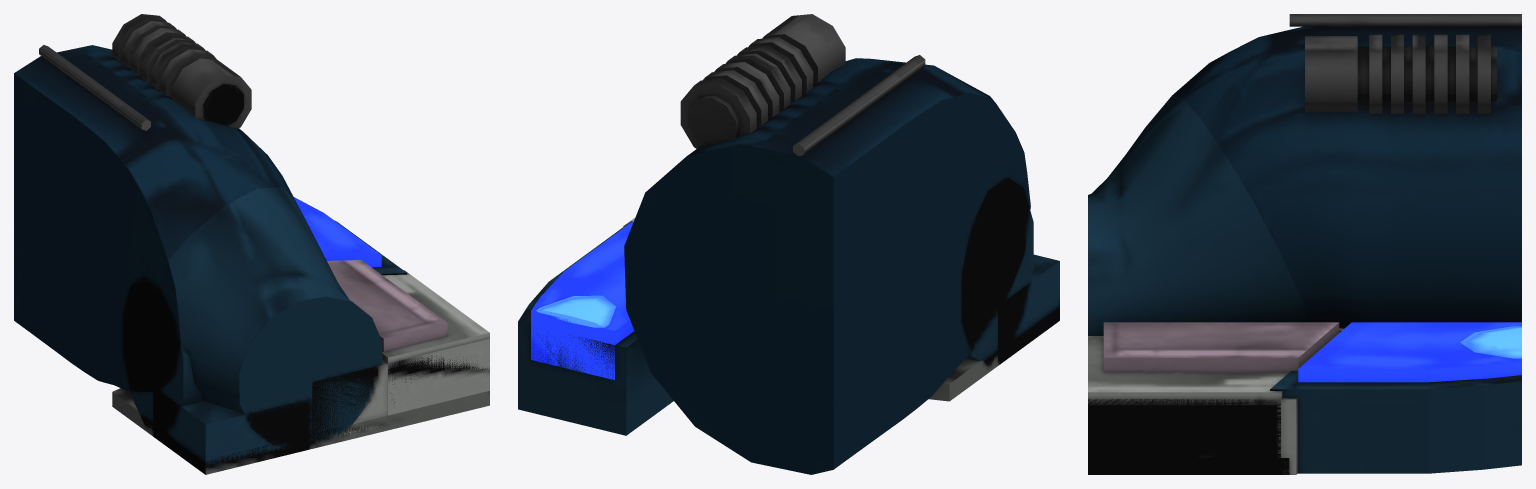
The model's file is newshb-83.glb.
The picture shows the model from 3 angles, left to right: view 1: azimuth 30°, elevation 25°; view 2: azimuth 150°, elevation 25°; view 3: azimuth 270°, elevation 25°; orthographic projection. The views are drawn at different scales.
Parts seen in each view (by area): view 1: newshb-83; view 2: newshb-83; view 3: newshb-83.
Boxes of the visible parts, x1,y1,x2,y2 form: newshb-83: (14,14,489,474); newshb-83: (518,14,1059,474); newshb-83: (1088,14,1521,474).
Bounding box in the file's own units: 2 × 2.04 × 2.33.
11 materials, 11 textured.
